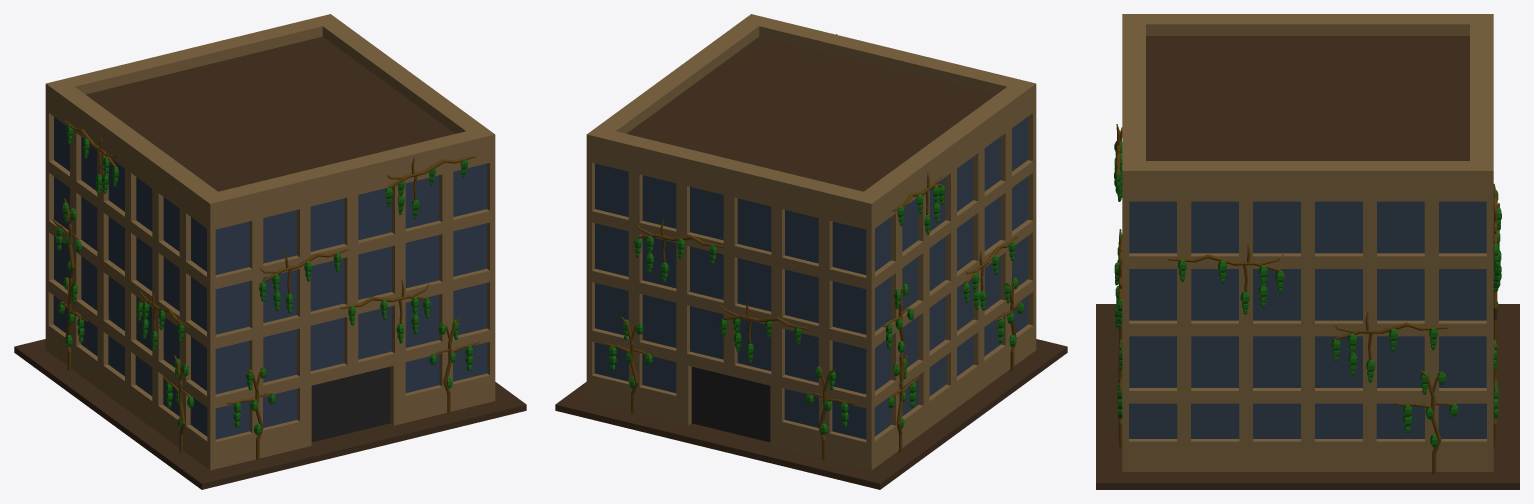
The model's file is building1_stage2.fbx.
3 renders of one model, left to right at view 1: azimuth 30°, elevation 25°; view 2: azimuth 150°, elevation 25°; view 3: azimuth 270°, elevation 25°, orthographic. The views are drawn at different scales.
Parts seen in each view (by area): view 1: Building1_Stage2; view 2: Building1_Stage2; view 3: Building1_Stage2.
Part boxes in pixels (left/top/right/bottom): Building1_Stage2: left=14, top=14, right=526, bottom=489; Building1_Stage2: left=555, top=14, right=1067, bottom=489; Building1_Stage2: left=1096, top=14, right=1519, bottom=489.
Size of the model in its own units: 593 by 475 by 593.
